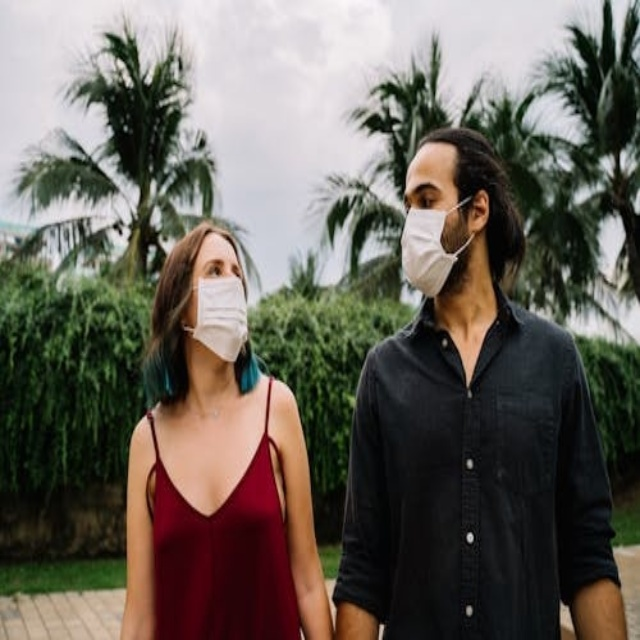Mascara: (400, 199, 474, 297), (182, 275, 249, 361)
Sin_gafas: (399, 173, 452, 206), (196, 246, 247, 279)
